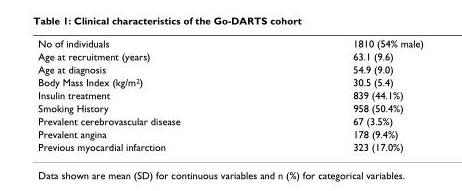table: (37, 37, 422, 152)
table column: (37, 37, 266, 152), (266, 37, 422, 152)
table row: (37, 49, 422, 62), (37, 62, 422, 75), (37, 75, 422, 88), (37, 88, 422, 101), (37, 101, 422, 114), (37, 114, 422, 127), (37, 127, 422, 140), (37, 37, 422, 49), (37, 140, 422, 152)
